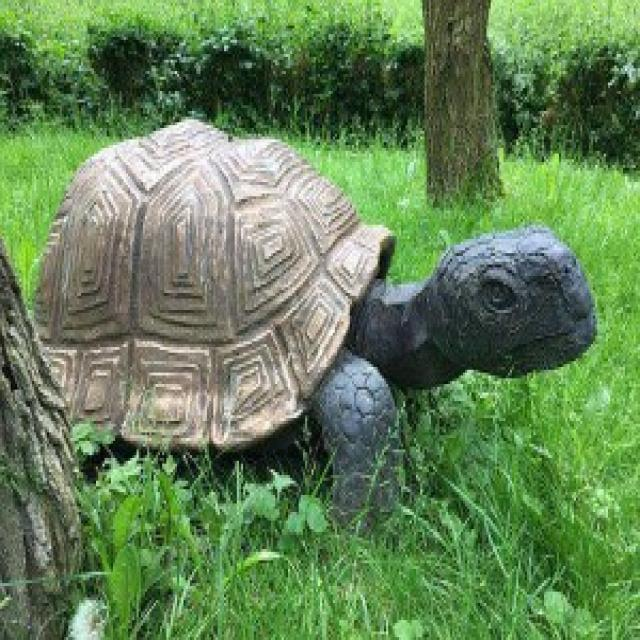Sea turtle: (23, 114, 601, 545)
